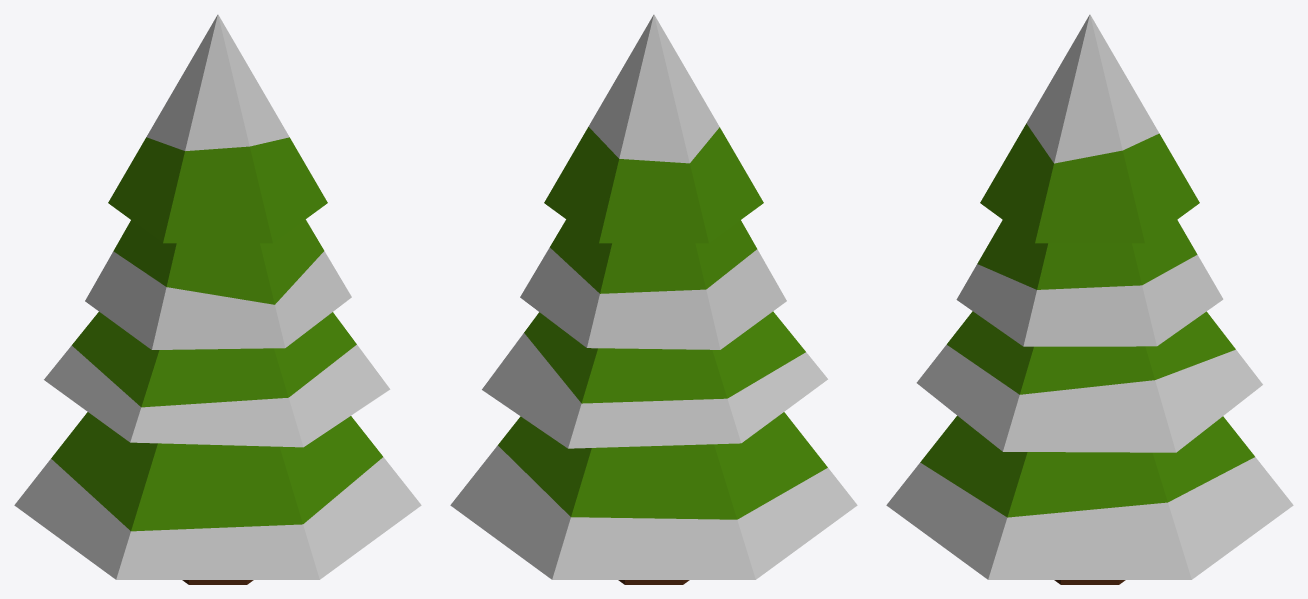
Rendered from T_Pine3PartialSnow.fbx.
3 views of the same model, side by side, from view 1: azimuth 30°, elevation 25°; view 2: azimuth 150°, elevation 25°; view 3: azimuth 270°, elevation 25° (orthographic).
Parts seen in each view (by area): view 1: Cylinder; view 2: Cylinder; view 3: Cylinder.
Part boxes in pixels (box(x1,y1,x2,y2)): Cylinder: box(14, 14, 421, 584); Cylinder: box(450, 14, 857, 584); Cylinder: box(886, 14, 1293, 584).
Size of the model in its own units: 3.94 by 6.77 by 4.55.
